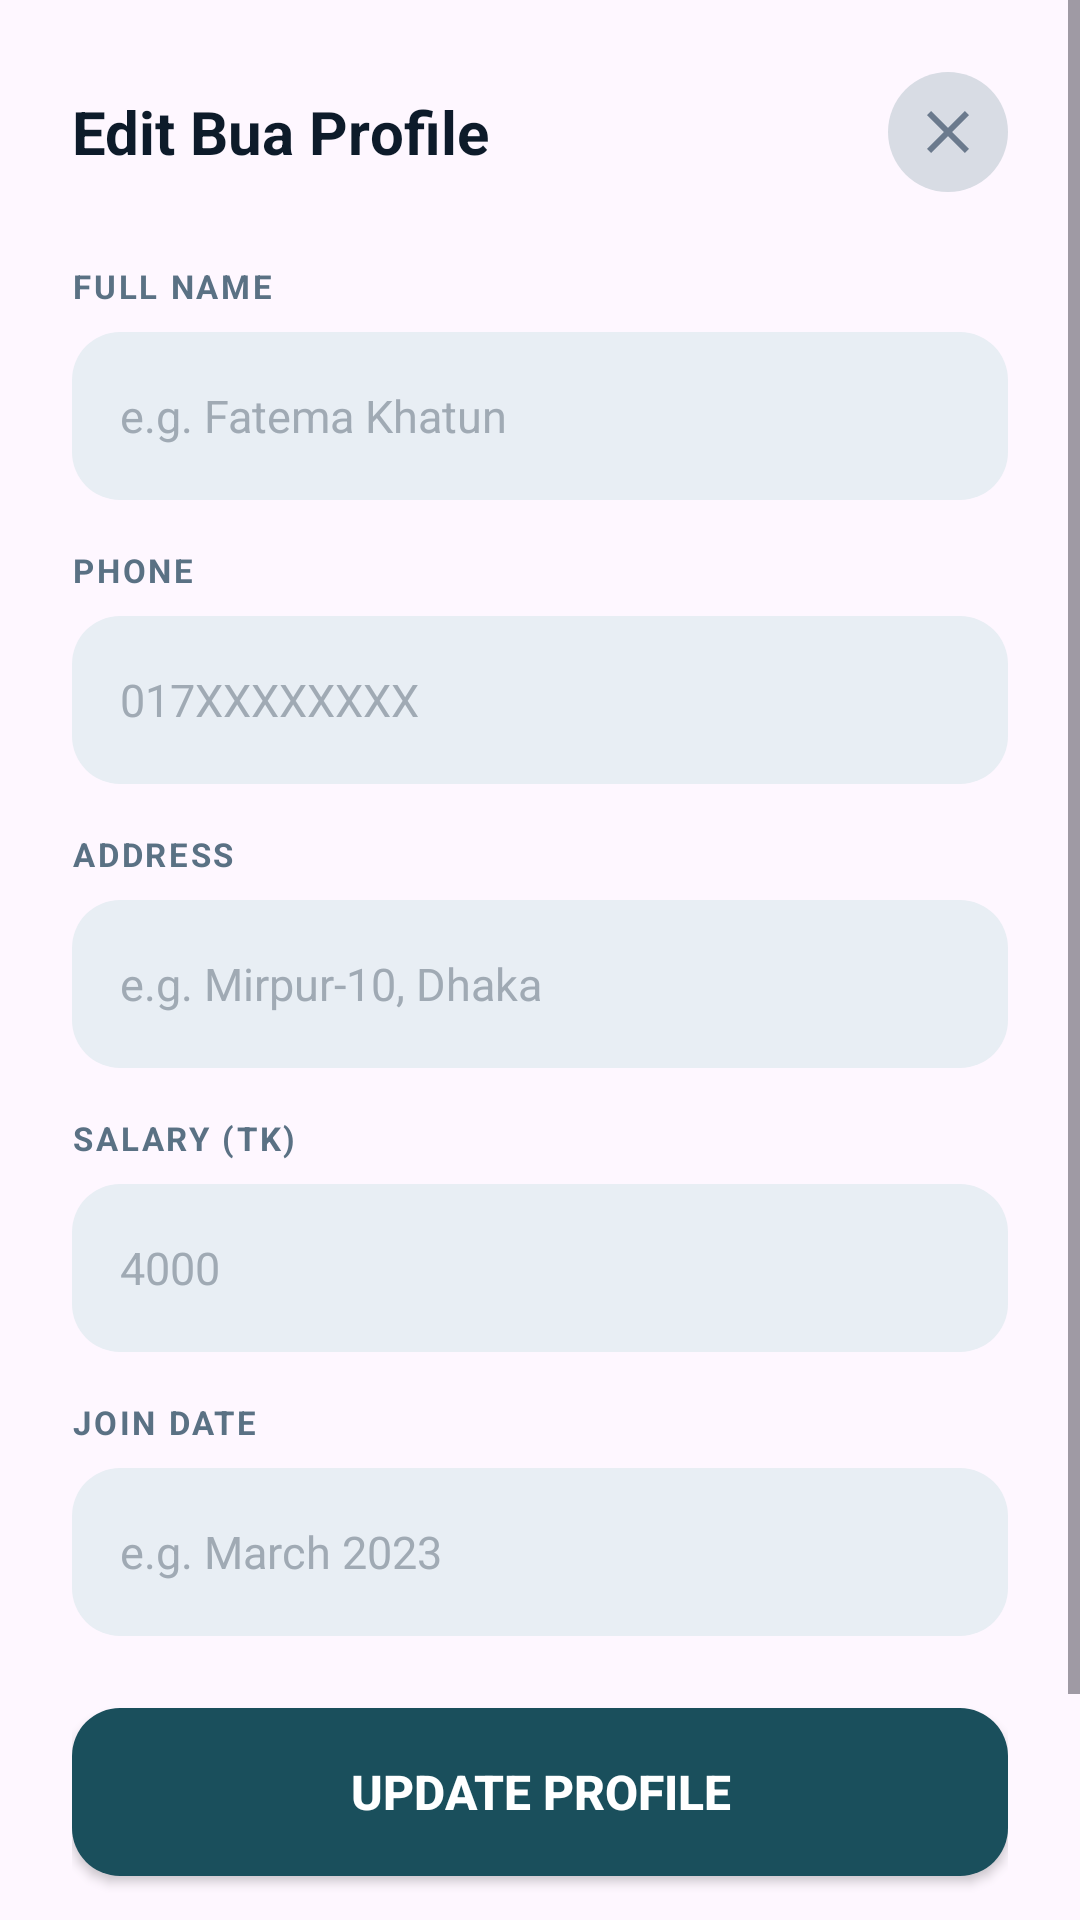

Point at icon controls on the screen. Image size 1080 × 1920, points as point (x, y).
Close: point (948, 132)
